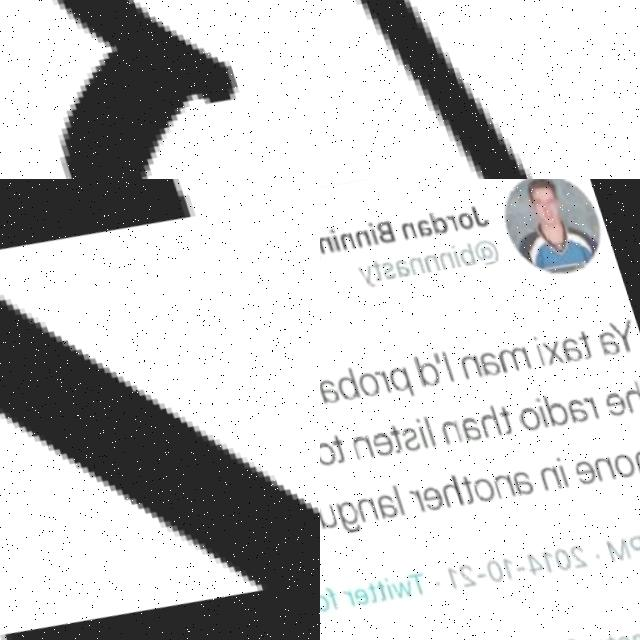0: (544, 536, 566, 565), (477, 549, 499, 577)
1: (494, 546, 512, 573), (438, 557, 456, 584), (534, 539, 550, 565)
2: (561, 533, 582, 561), (450, 554, 471, 582), (552, 626, 576, 640)
3: (0, 0, 320, 179)
4: (517, 542, 538, 568)
9: (537, 630, 559, 640)
L: (320, 0, 640, 179)
Z: (0, 179, 320, 640)
